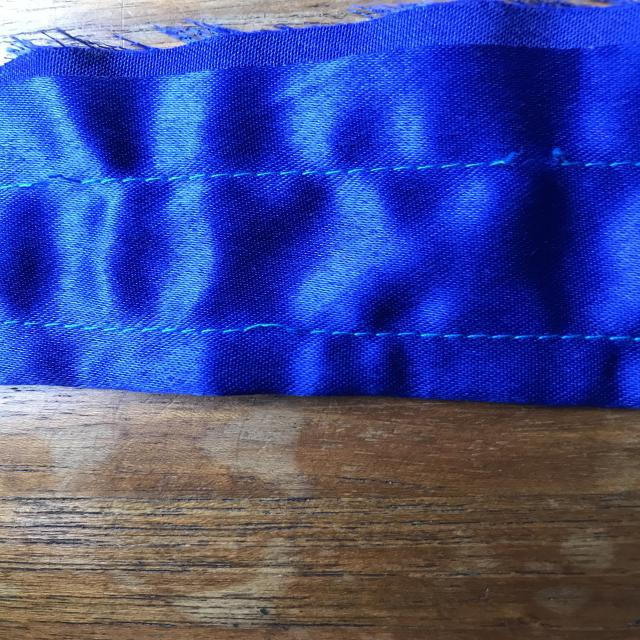broken: (466, 126, 586, 194)
good: (231, 158, 384, 193)
skip: (223, 300, 328, 354)
